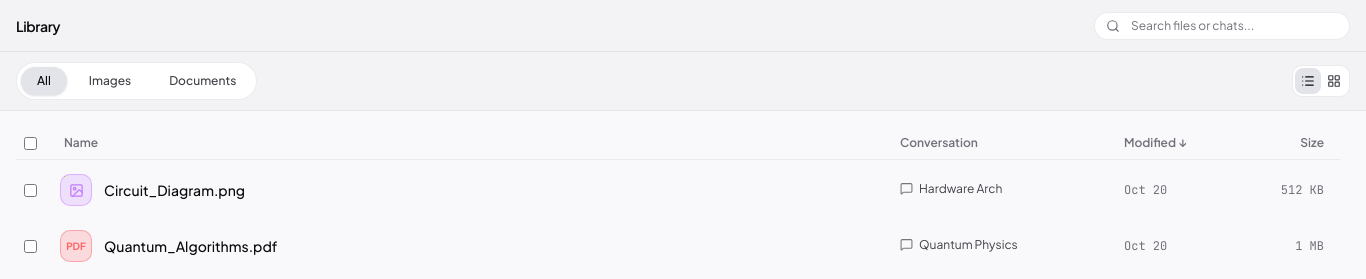
Test case: LibraryBrowser Component › renders list of files and filters by search input
Expected: the text "Quantum_Algorithms.pdf" is shown, [104,236,277,256]
Expected: the text "Circuit_Diagram.png" is shown, [104,180,245,200]
// Type in search box
Type "Circuit" into the field with placeholder "Search files or chats..." at (1222, 26), box [1094,12,1350,40]
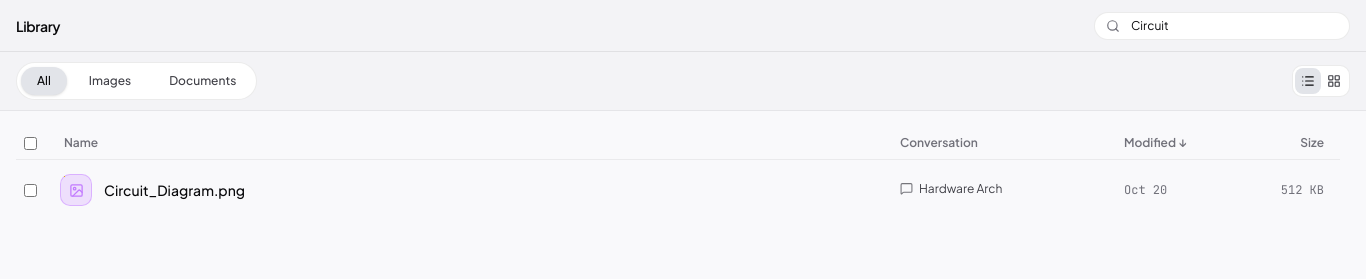
Expected: the text "Circuit_Diagram.png" is shown, [104,180,245,200]
Expected: the text "Quantum_Algorithms.pdf" is gone
